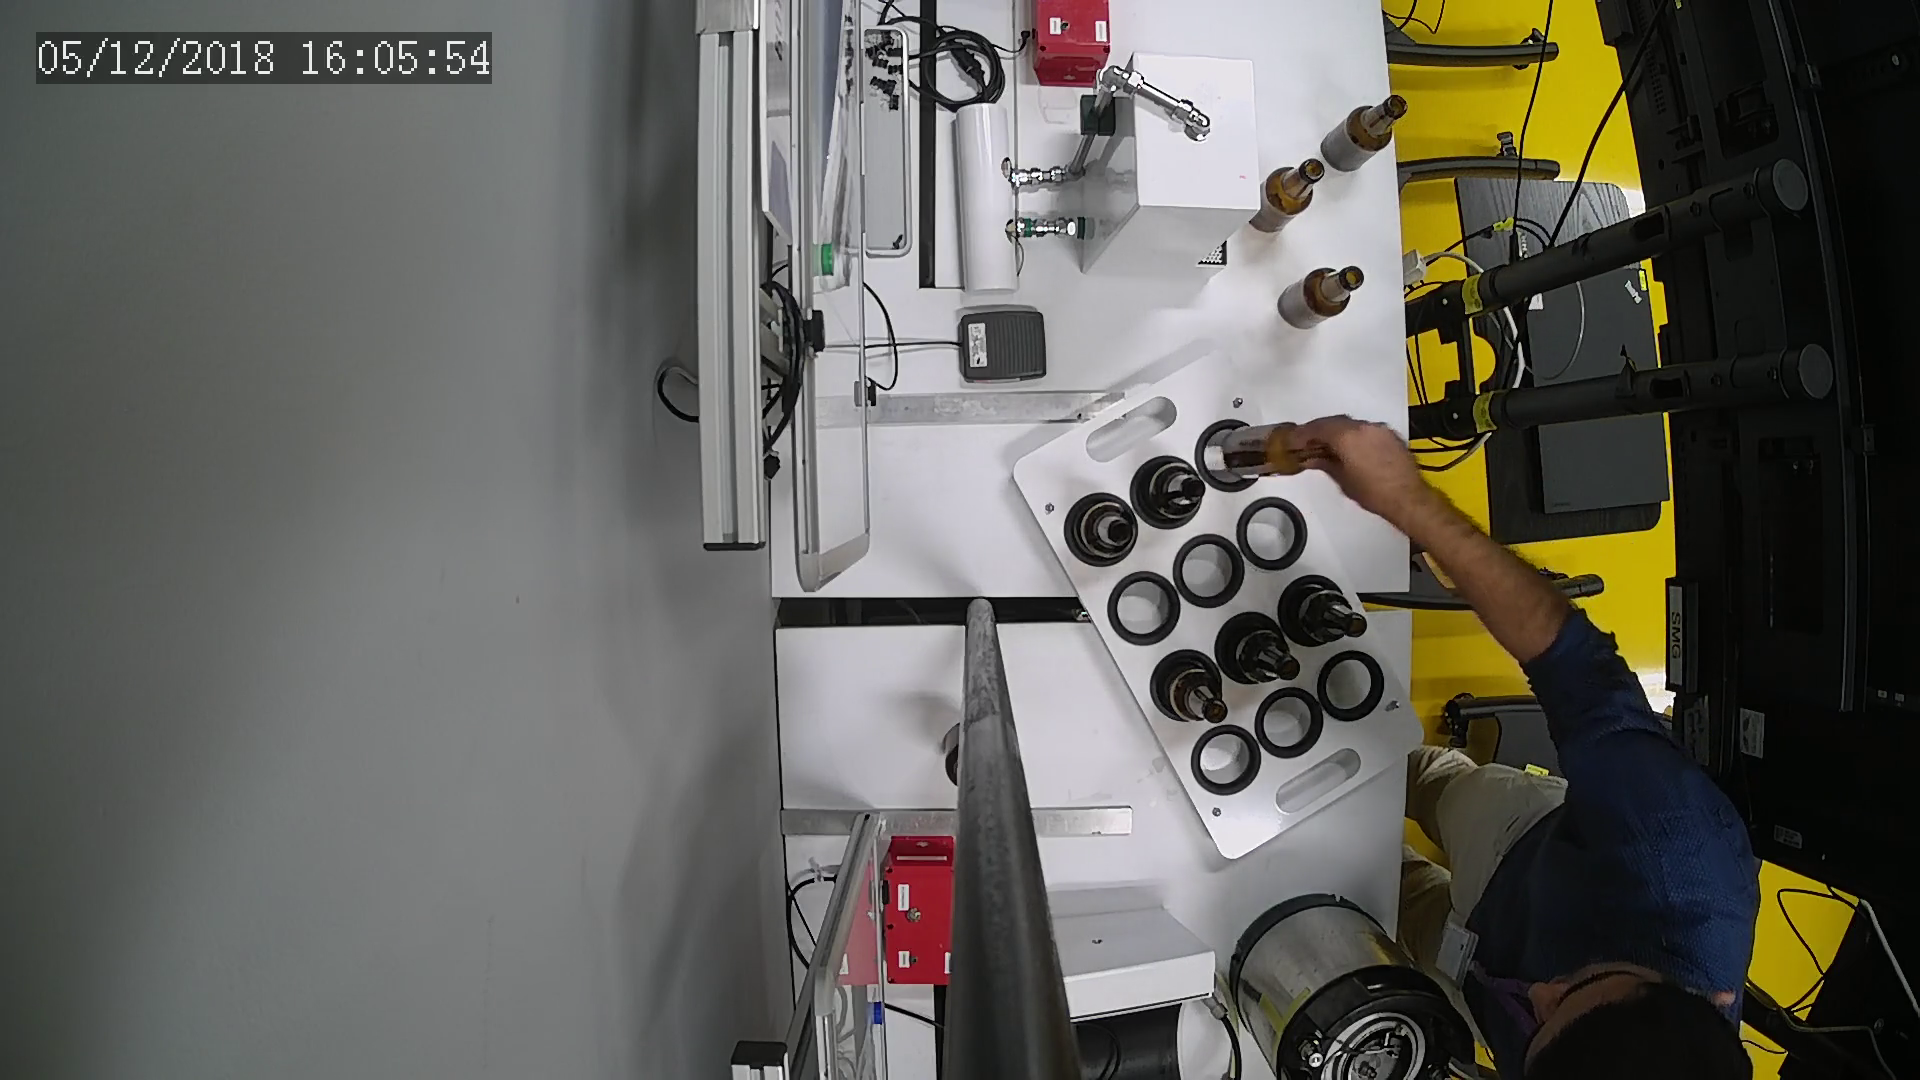filled_bottle: (1283, 572, 1370, 653), (1149, 651, 1236, 732), (1137, 455, 1211, 534), (1226, 615, 1302, 690), (1069, 488, 1135, 563)
trolley: (1007, 353, 1428, 858)
unfilled_bottle: (1324, 94, 1408, 171), (1278, 262, 1366, 332), (1254, 164, 1316, 236)
